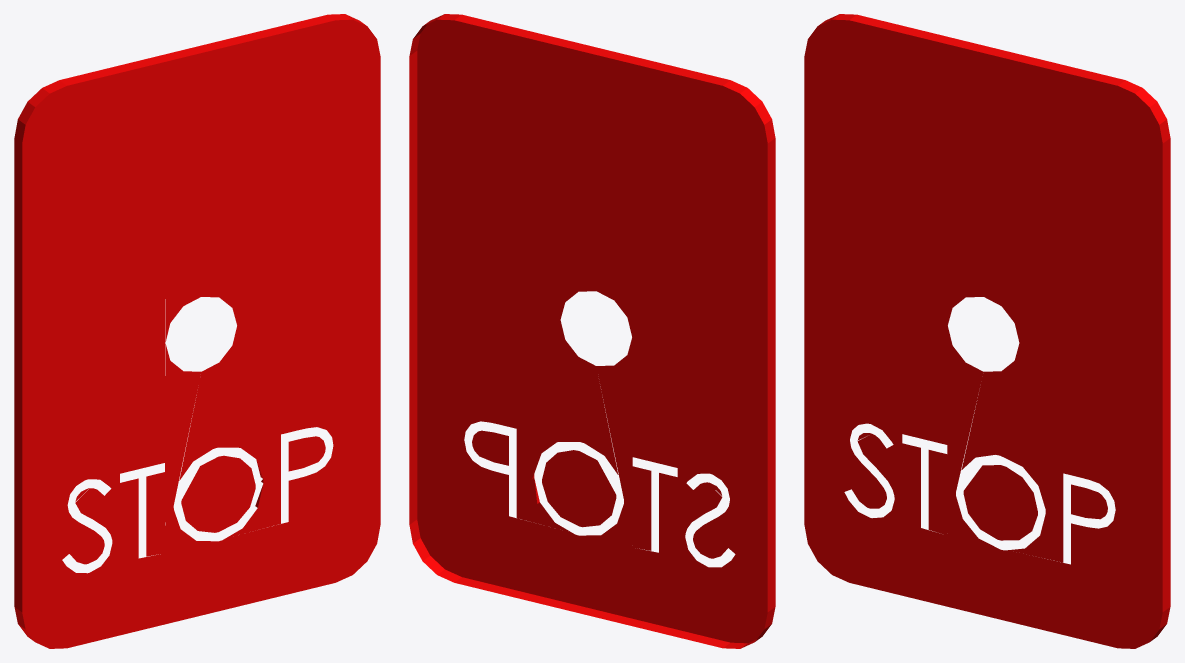
File: rambler_Chasis_vis_22.dae
3 renders of one model, left to right at view 1: azimuth 30°, elevation 25°; view 2: azimuth 150°, elevation 25°; view 3: azimuth 330°, elevation 25°, orthographic.
Parts seen in each view (by area): view 1: Node_0x7fe100285c80; view 2: Node_0x7fe100285c80; view 3: Node_0x7fe100285c80.
Boxes of the visible parts, x1,y1,x2,y2 form: Node_0x7fe100285c80: (14, 14, 380, 648); Node_0x7fe100285c80: (409, 14, 775, 648); Node_0x7fe100285c80: (804, 14, 1170, 648).
Bounding box in the file's own units: 0.08 × 0.1201 × 0.003.
